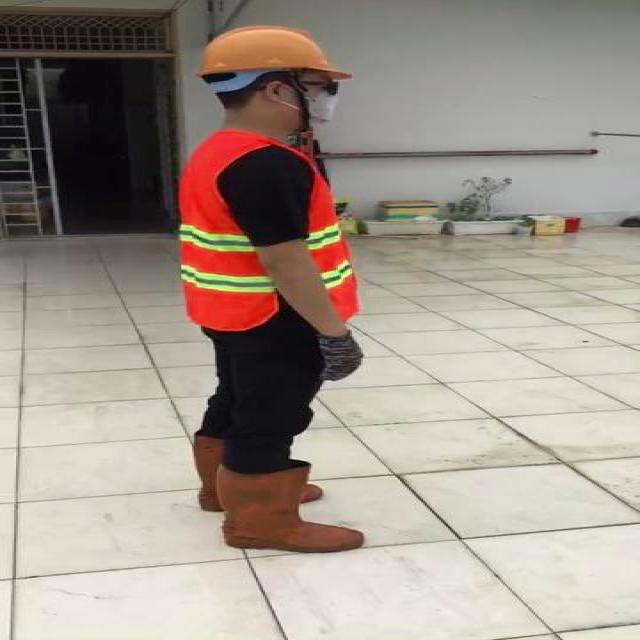boots: (217, 466, 370, 553)
face_mask: (293, 72, 352, 125)
hand_glove: (308, 330, 366, 380)
head_helmet: (191, 22, 358, 84)
person: (158, 29, 398, 562)
vest: (167, 130, 366, 332)
